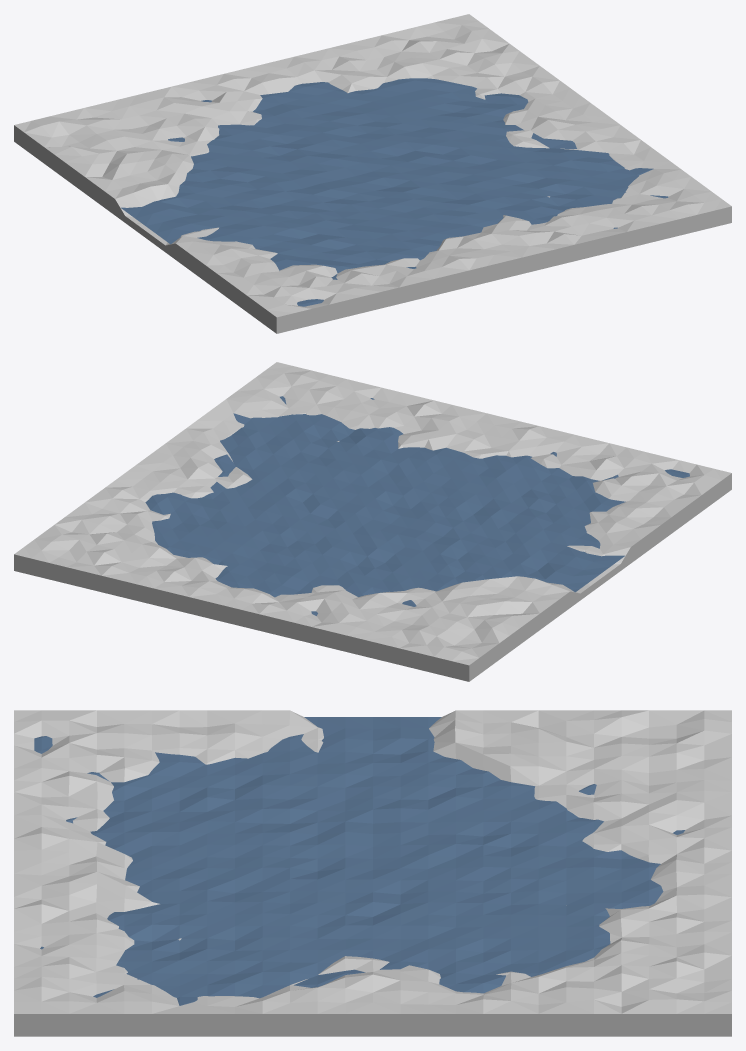
File: WaterLakeTilee.fbx
3 renders of one model, top to bottom at view 1: azimuth 30°, elevation 25°; view 2: azimuth 150°, elevation 25°; view 3: azimuth 270°, elevation 25°, orthographic. The views are drawn at different scales.
Visible parts, largest first — view 1: WaterLakeTile.001; view 2: WaterLakeTile.001; view 3: WaterLakeTile.001.
Boxes of the visible parts, bbox=[...] form: WaterLakeTile.001: bbox=[14, 14, 731, 333]; WaterLakeTile.001: bbox=[14, 362, 731, 681]; WaterLakeTile.001: bbox=[14, 710, 731, 1036].
Bounding box in the file's own units: 1000 × 43.9 × 1000.
